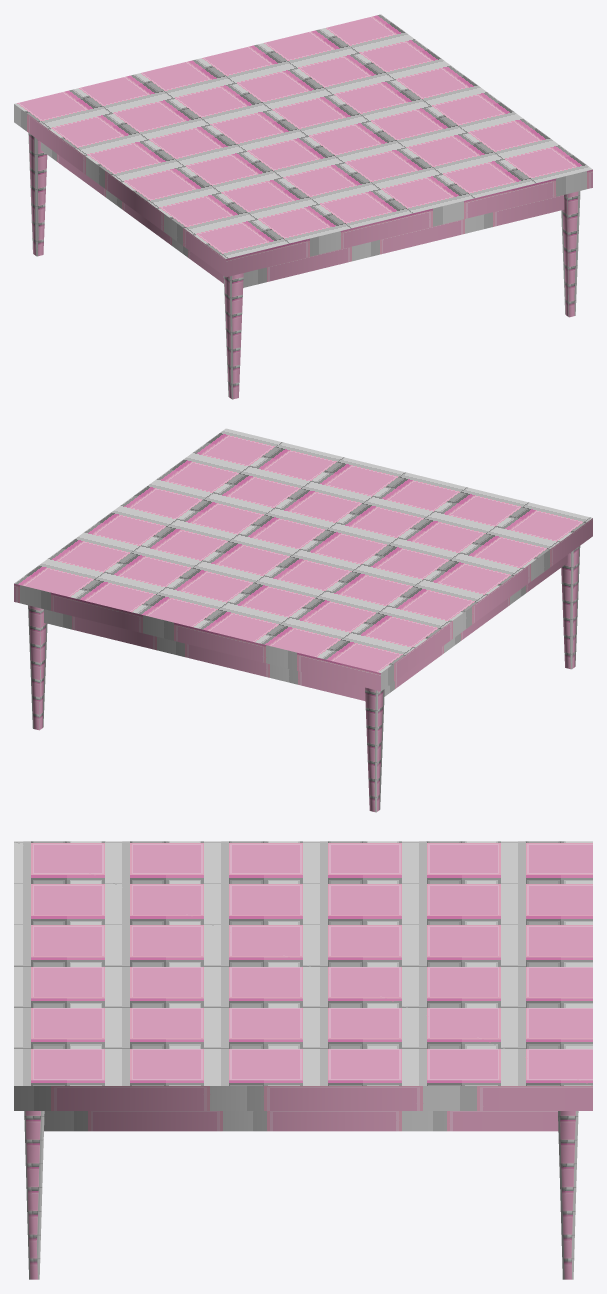
The picture shows the model from 3 angles, top to bottom: view 1: azimuth 30°, elevation 25°; view 2: azimuth 150°, elevation 25°; view 3: azimuth 270°, elevation 25°; orthographic projection. The views are drawn at different scales.
Visible parts, largest first — view 1: 3617kg_28_ta0; view 2: 3617kg_28_ta0; view 3: 3617kg_28_ta0.
Boxes of the visible parts, x1=… form: 3617kg_28_ta0: x1=14, y1=14, x2=592, y2=399; 3617kg_28_ta0: x1=14, y1=428, x2=592, y2=812; 3617kg_28_ta0: x1=14, y1=841, x2=592, y2=1279.
Bounding box in the file's own units: 1.95 × 0.75 × 1.95.
Materials: 1 (1 with a texture image).
